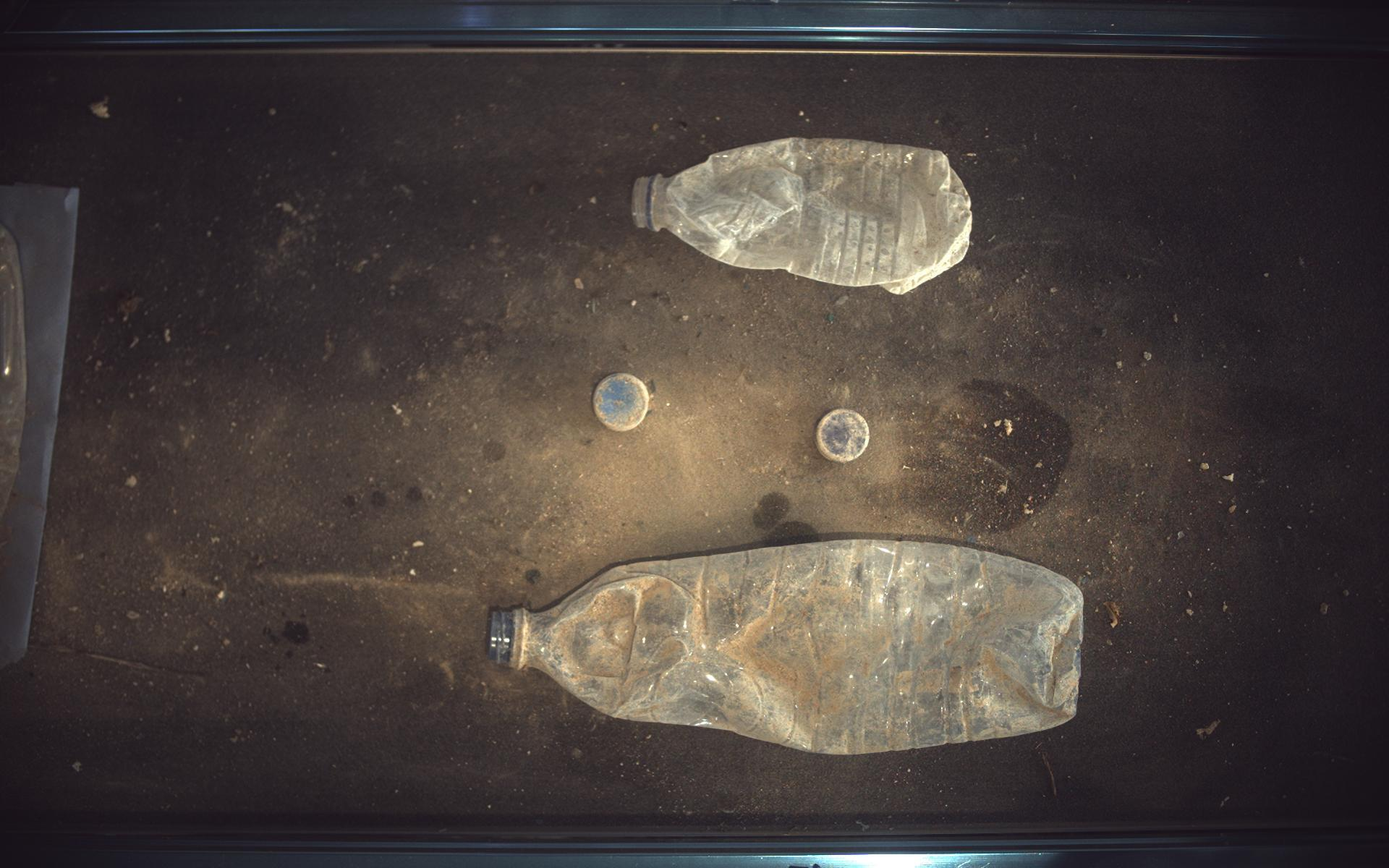general_w: (488, 540, 1086, 756), (633, 137, 974, 294), (593, 373, 650, 432), (817, 409, 871, 462)
